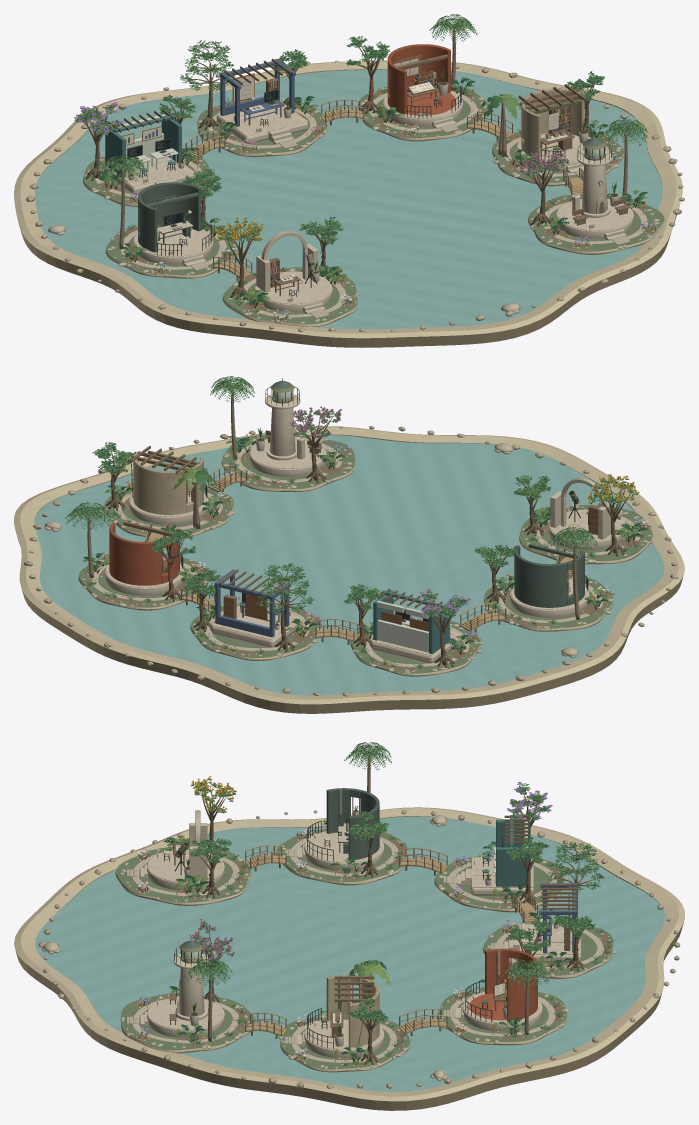
Rendered from archipelago-v9.glb.
3 views of the same model, one above another, from view 1: azimuth 30°, elevation 25°; view 2: azimuth 150°, elevation 25°; view 3: azimuth 270°, elevation 25° (orthographic).
Parts seen in each view (by area): view 1: lake_water, lake_irregular_sand_bank, pavilion_gerar, pavilion_especificar, pavilion_validar, pavilion_evoluir, pavilion_comparar, pavilion_perspectivas, pavilion_pesquisa, island_perspectivas_foundation, island_pesquisa_foundation, lake_shore_pebbles (+33 smaller); view 2: lake_water, lake_irregular_sand_bank, pavilion_evoluir, pavilion_gerar, pavilion_validar, pavilion_comparar, pavilion_perspectivas, pavilion_especificar, pavilion_pesquisa, island_perspectivas_foundation, island_pesquisa_foundation, lake_shore_pebbles (+36 smaller); view 3: lake_water, lake_irregular_sand_bank, pavilion_evoluir, pavilion_especificar, pavilion_gerar, pavilion_perspectivas, pavilion_comparar, pavilion_validar, pavilion_pesquisa, island_perspectivas_foundation, island_pesquisa_foundation, island_especificar_foundation (+32 smaller).
Boxes of the visible parts, bbox=[...] form: lake_water: bbox=[35, 69, 662, 329]; lake_irregular_sand_bank: bbox=[14, 60, 682, 347]; pavilion_gerar: bbox=[133, 182, 213, 266]; pavilion_especificar: bbox=[383, 44, 462, 128]; pavilion_validar: bbox=[216, 58, 308, 144]; pavilion_evoluir: bbox=[517, 84, 595, 173]; pavilion_comparar: bbox=[103, 110, 194, 194]; pavilion_perspectivas: bbox=[556, 134, 633, 240]; pavilion_pesquisa: bbox=[254, 230, 332, 313]; island_perspectivas_foundation: bbox=[528, 195, 664, 254]; island_pesquisa_foundation: bbox=[222, 267, 358, 326]; lake_shore_pebbles: bbox=[26, 59, 684, 331]; lake_water: bbox=[34, 435, 664, 695]; lake_irregular_sand_bank: bbox=[14, 426, 684, 713]; pavilion_evoluir: bbox=[129, 446, 208, 524]; pavilion_gerar: bbox=[510, 543, 589, 617]; pavilion_validar: bbox=[211, 569, 302, 647]; pavilion_comparar: bbox=[371, 588, 462, 663]; pavilion_perspectivas: bbox=[249, 378, 326, 476]; pavilion_especificar: bbox=[105, 521, 184, 595]; pavilion_pesquisa: bbox=[549, 478, 625, 549]; island_perspectivas_foundation: bbox=[221, 433, 355, 491]; island_pesquisa_foundation: bbox=[519, 505, 653, 564]; lake_shore_pebbles: bbox=[24, 426, 678, 696]; lake_water: bbox=[35, 816, 664, 1091]; lake_irregular_sand_bank: bbox=[14, 807, 684, 1110]; pavilion_evoluir: bbox=[297, 975, 384, 1057]; pavilion_especificar: bbox=[455, 948, 542, 1031]; pavilion_gerar: bbox=[297, 788, 384, 870]; pavilion_perspectivas: bbox=[130, 937, 224, 1037]; pavilion_comparar: bbox=[447, 815, 533, 895]; pavilion_validar: bbox=[497, 883, 581, 962]; pavilion_pesquisa: bbox=[130, 810, 224, 890]; island_perspectivas_foundation: bbox=[121, 993, 256, 1053]; island_pesquisa_foundation: bbox=[115, 847, 251, 905]; island_especificar_foundation: bbox=[437, 989, 567, 1045].
Bounding box in the file's own units: 43.95 × 7.15 × 42.37.
55 materials, 8 textured.
